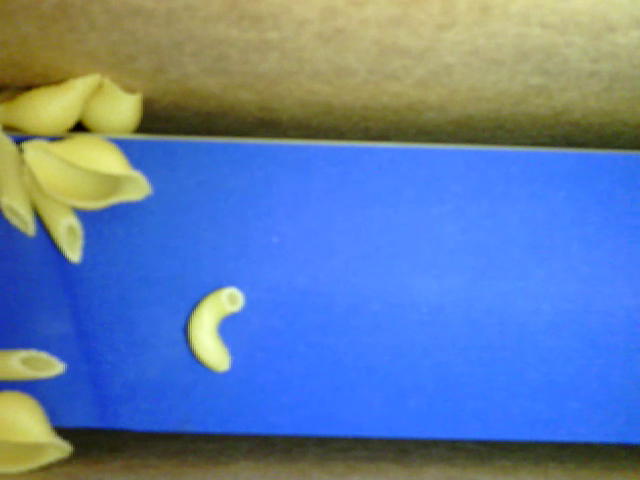elbow: (182, 283, 244, 371)
penne: (20, 147, 85, 262), (1, 115, 38, 238), (1, 346, 71, 383)
shell: (23, 133, 156, 212), (1, 70, 98, 137), (1, 386, 74, 472), (86, 70, 144, 138)
